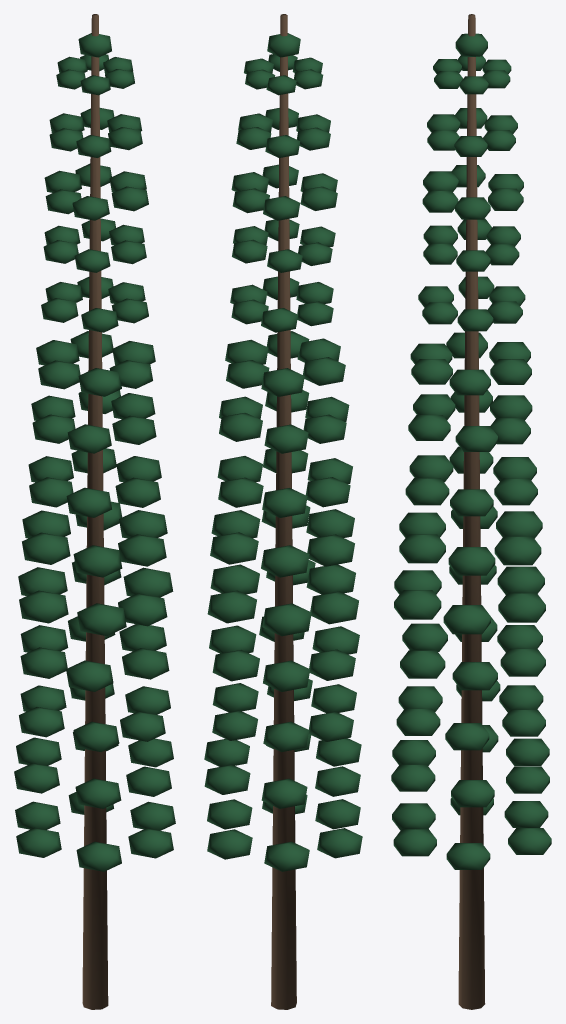
File: cypress_column_tall.glb
The picture shows the model from 3 angles, left to right: view 1: azimuth 30°, elevation 25°; view 2: azimuth 150°, elevation 25°; view 3: azimuth 270°, elevation 25°; orthographic projection.
Visible parts, largest first — view 1: cypress_column_tall; view 2: cypress_column_tall; view 3: cypress_column_tall.
Boxes of the visible parts, x1=… form: cypress_column_tall: x1=14, y1=14, x2=175, y2=1009; cypress_column_tall: x1=204, y1=14, x2=362, y2=1009; cypress_column_tall: x1=391, y1=14, x2=551, y2=1009.
Size of the model in its own units: 2.9 by 18 by 2.64.
